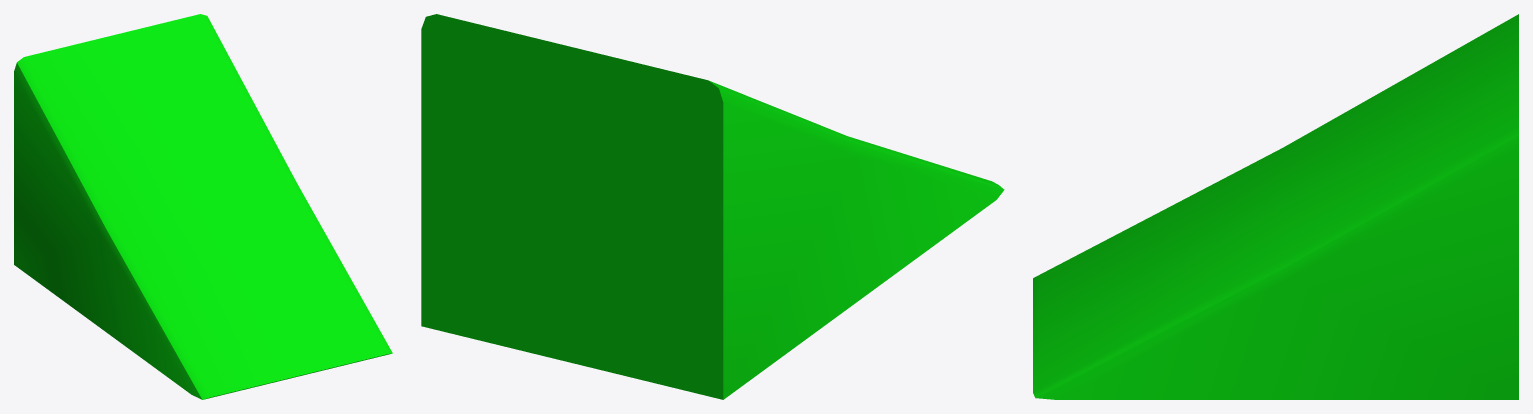
Rendered from (p) Green Triangular block.fbx.
3 renders of one model, left to right at view 1: azimuth 30°, elevation 25°; view 2: azimuth 150°, elevation 25°; view 3: azimuth 270°, elevation 25°, orthographic. The views are drawn at different scales.
Parts seen in each view (by area): view 1: Triangalar Block.004; view 2: Triangalar Block.004; view 3: Triangalar Block.004.
Boxes of the visible parts, <box> form: Triangalar Block.004: <box>14,14,392,399</box>; Triangalar Block.004: <box>421,14,1004,399</box>; Triangalar Block.004: <box>1033,14,1518,399</box>.
Bounding box in the file's own units: 296 × 296 × 488.
